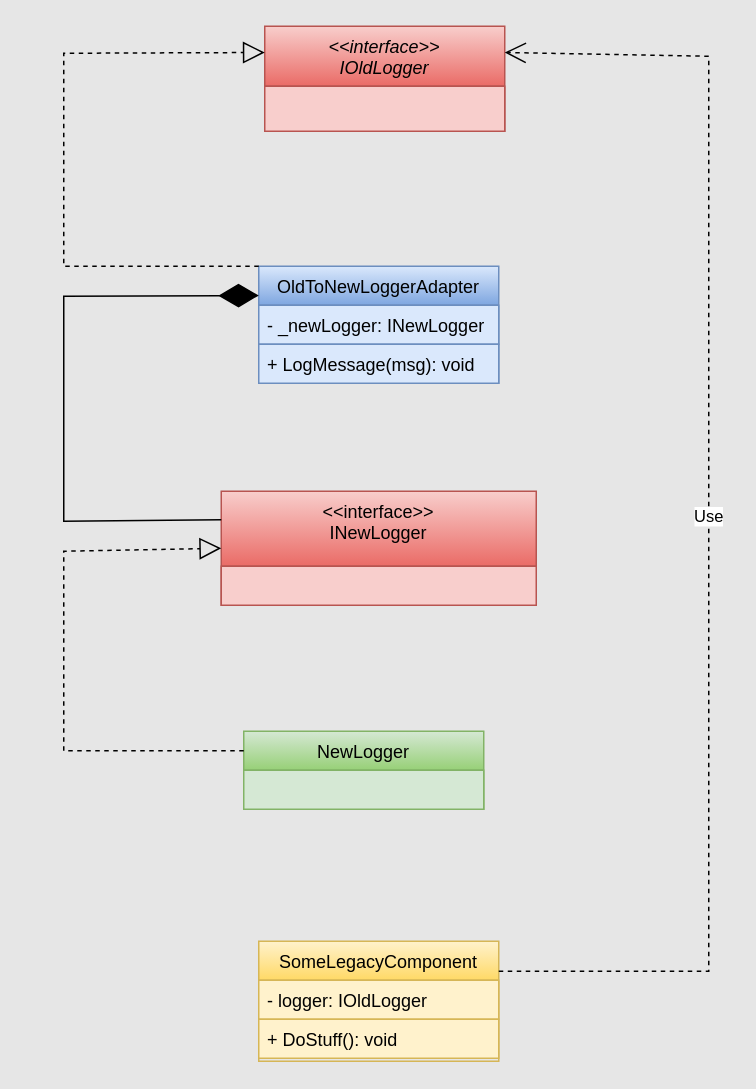
This 756x1089 diagram has some shape labels left out. Here are the shapes that lost their labels. From the top down, the centre of each, then its label:
pixel 384 108: + LogMessage(msg: string)
pixel 378 585: + WriteLog(level: string, msg: string))
pixel 363 789: + WriteLog(): void
